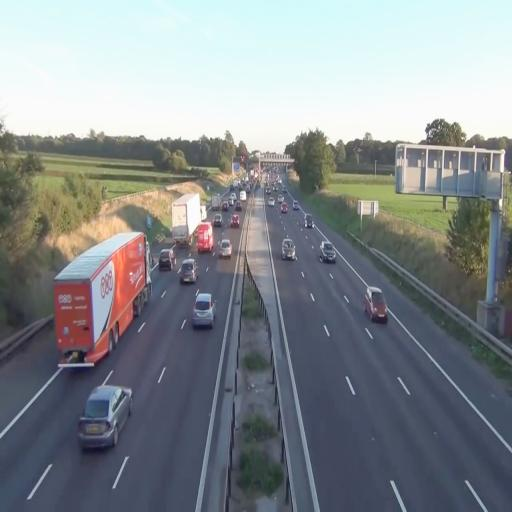vehicle: (54, 230, 150, 368), (77, 384, 133, 452), (172, 193, 202, 246), (172, 196, 192, 246), (364, 286, 388, 323), (192, 292, 215, 329), (194, 221, 214, 253), (179, 259, 199, 285), (319, 240, 337, 264), (159, 249, 174, 272), (282, 236, 296, 260), (220, 238, 232, 257)
